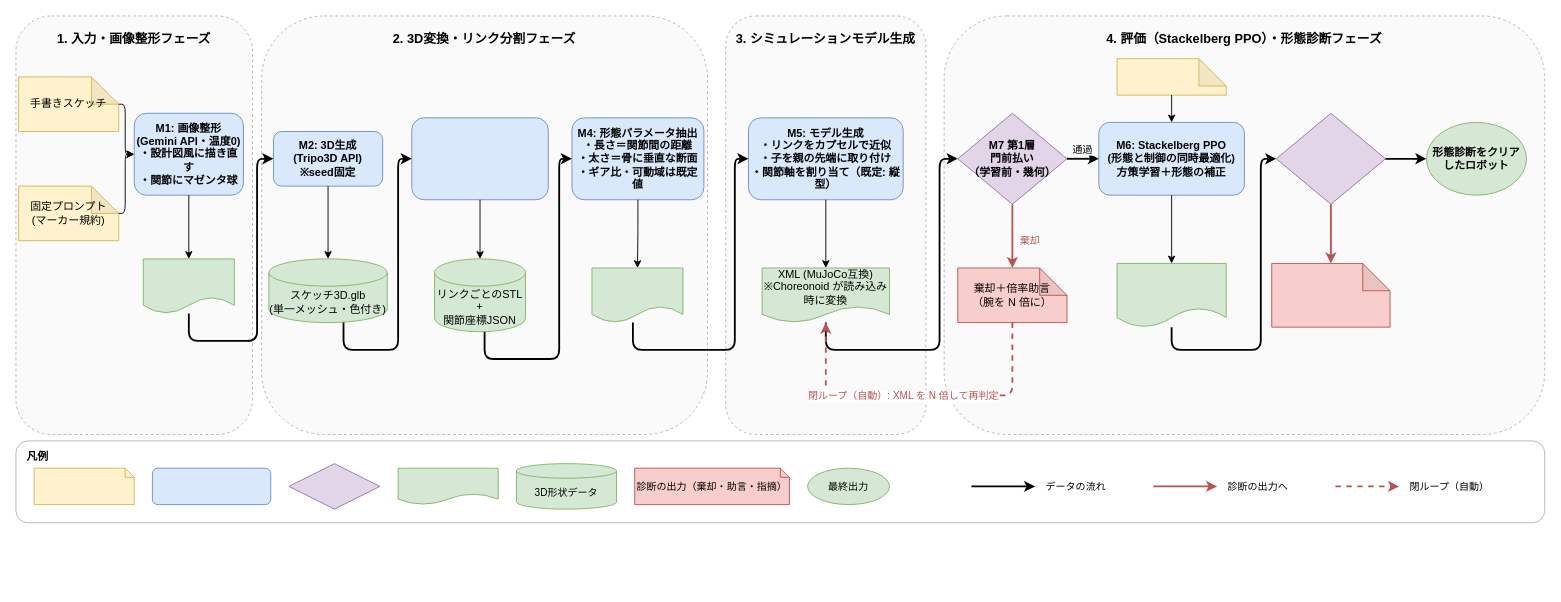
Image size: 1561x602. Some labels were removed from this diagram. The centre of each missing label's shape, as x and y in pixels:
"M3: 関節検出・リンク分割 ・マゼンタの頂点を色で抽出 ・塊の重心＝関節 ・関節の高さでメッシュを切る" goes at (x=479, y=158).
"M7 第2・3層 形態診断 （学習後）" goes at (x=1330, y=158).
"topology.json" goes at (x=637, y=295).
"タスク定義 / 環境" goes at (x=1171, y=76).
"人が与える入力" goes at (x=83, y=486).
"処理（工程 M1〜M6）" goes at (x=211, y=486).
"出力ファイル" goes at (x=447, y=486).
"判定（M7）" goes at (x=334, y=486).
"学習済みの方策と形 (best.p) 学習曲線・軌跡" goes at (x=1171, y=295).
"指摘（報告のみ） 張り付き・戦略・ 使っていない関節" goes at (x=1330, y=295).
"整形スケッチ画像" goes at (x=188, y=285).
